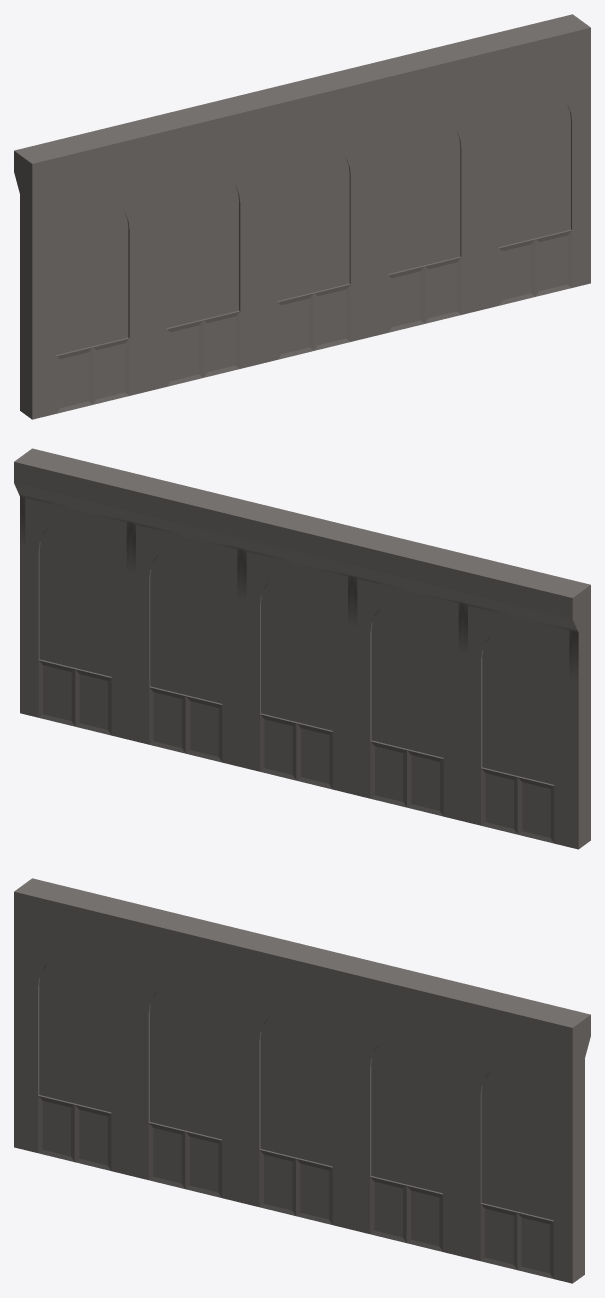
Rendered from CouloirComble_FenêtresHaut_02.fbx.
3 renders of one model, top to bottom at view 1: azimuth 30°, elevation 25°; view 2: azimuth 150°, elevation 25°; view 3: azimuth 330°, elevation 25°, orthographic.
Visible parts, largest first — view 1: FenêtresHaut_02; view 2: FenêtresHaut_02; view 3: FenêtresHaut_02.
Part boxes in pixels (left/top/right/bottom): FenêtresHaut_02: left=14, top=14, right=590, bottom=419; FenêtresHaut_02: left=14, top=448, right=590, bottom=849; FenêtresHaut_02: left=14, top=878, right=590, bottom=1283.
Size of the model in its own units: 14.83 by 6.49 by 0.8405.
